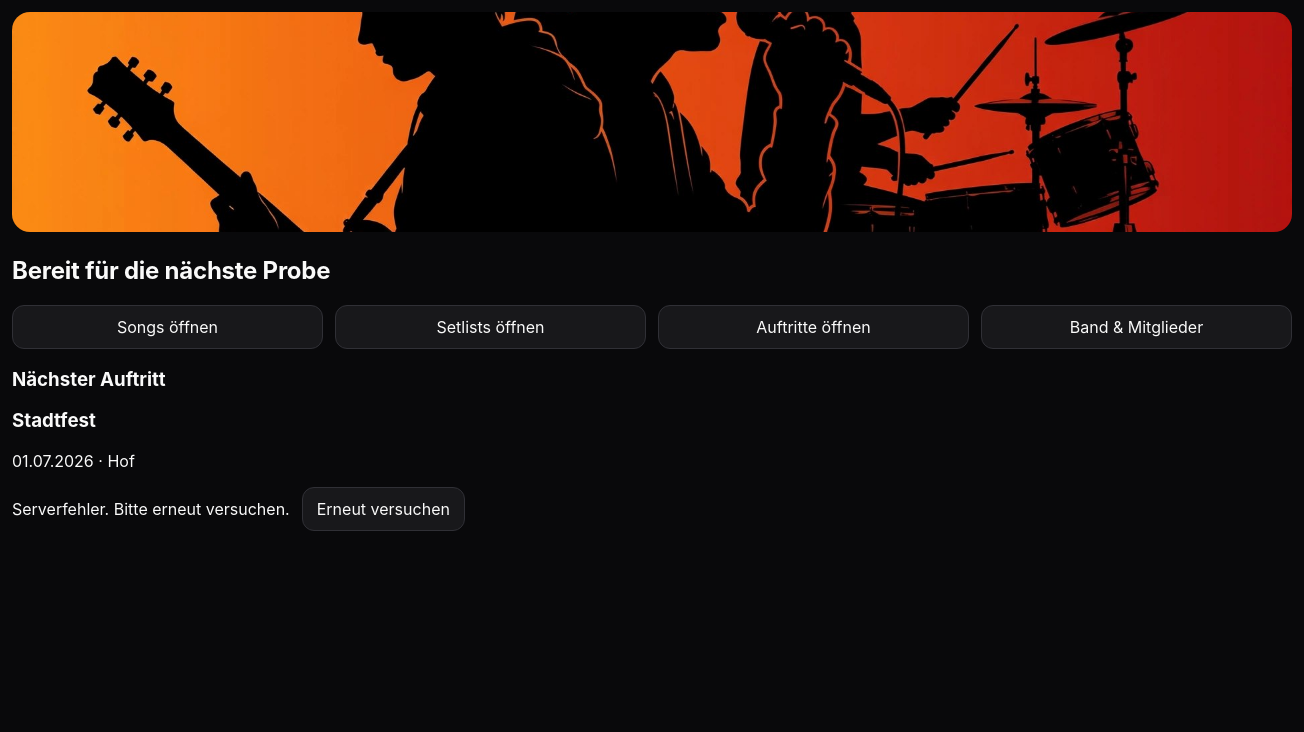
Test case: Startseite Echtzeit-Abgleich › behält den bestätigten Auftritt bei fehlgeschlagenem Echtzeit-Nachladen
Expected: the text "Serverfehler. Bitte erneut versuchen." is shown, x1=12 y1=499 x2=290 y2=519
Expected: the heading "Stadtfest" is shown, x1=12 y1=409 x2=96 y2=432
Click the button "Erneut versuchen" at coordinates (383, 509), box x1=302 y1=487 x2=465 y2=531
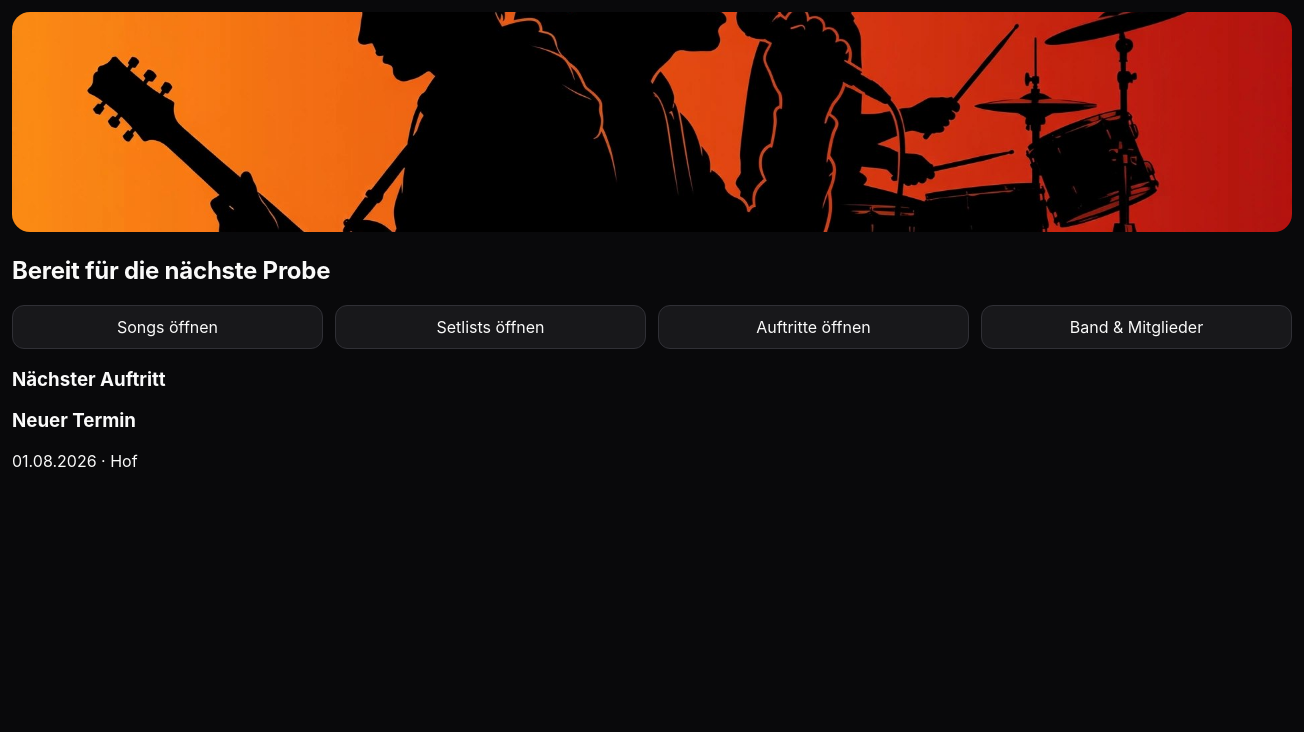
Now the heading "Neuer Termin" is shown, box x1=12 y1=409 x2=136 y2=432
